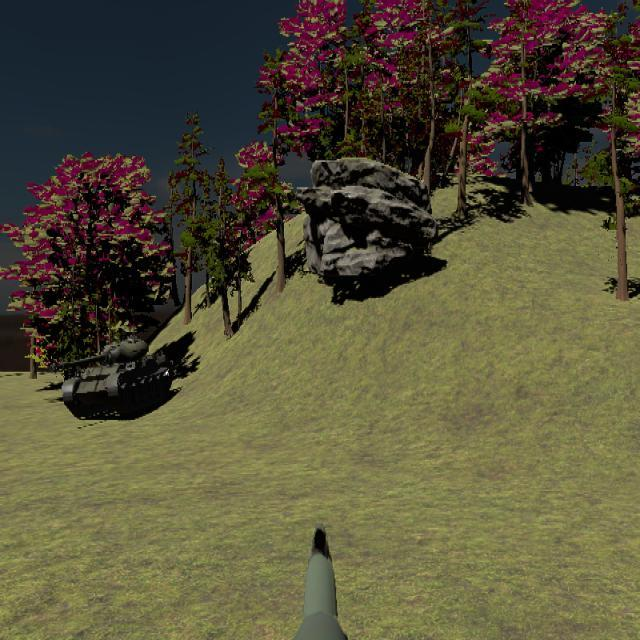Tank: (51, 337, 174, 420)
